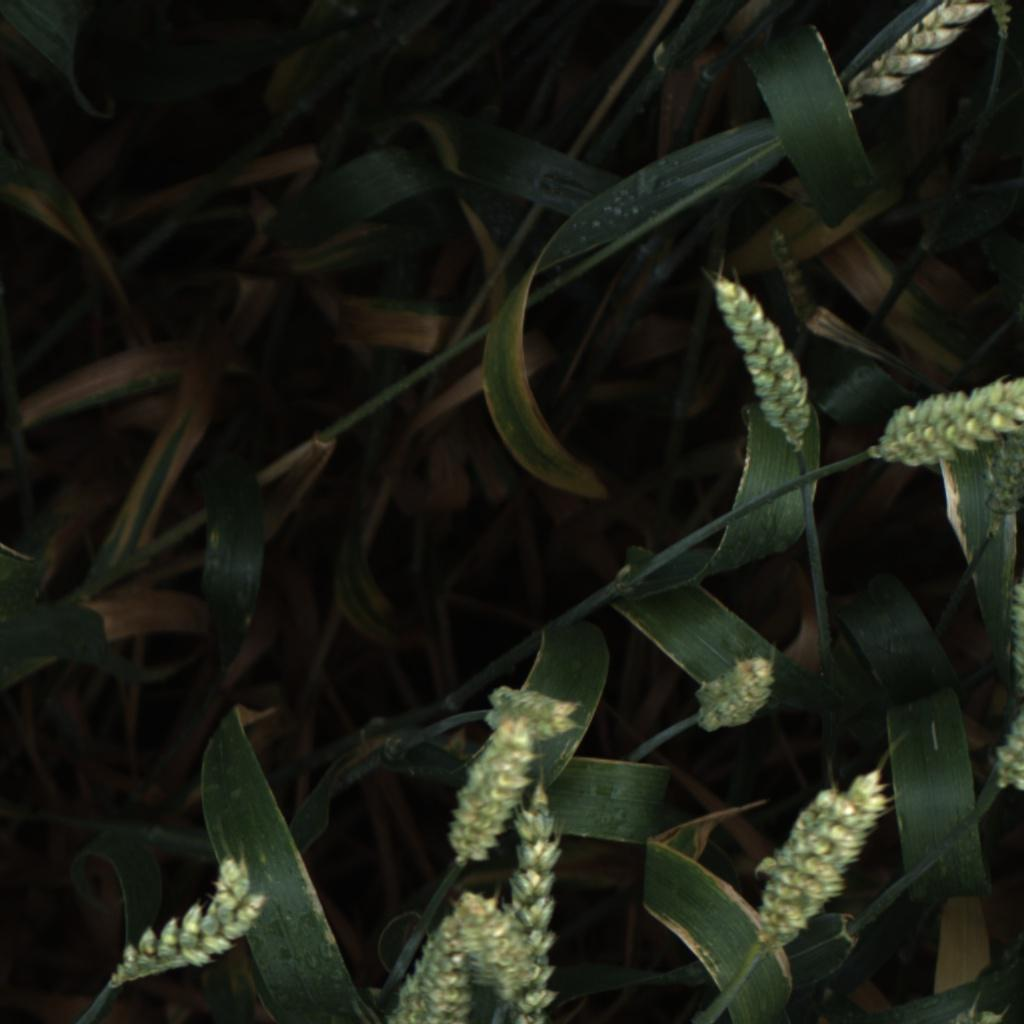0-0: (748, 766, 890, 949), (106, 854, 266, 998), (709, 262, 824, 453), (490, 784, 566, 1024), (835, 1, 987, 112), (870, 366, 1024, 468), (444, 716, 542, 867), (382, 901, 473, 1024), (452, 879, 529, 1002), (686, 646, 777, 739), (482, 679, 595, 742), (971, 426, 1024, 538), (990, 711, 1024, 794), (1005, 578, 1024, 702), (984, 0, 1017, 40), (946, 1004, 1008, 1024)
